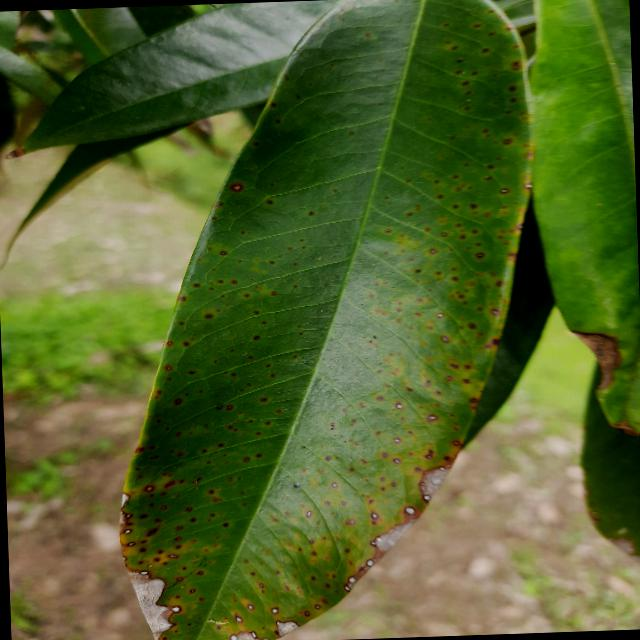Leaf Spot: (92, 0, 559, 639)
